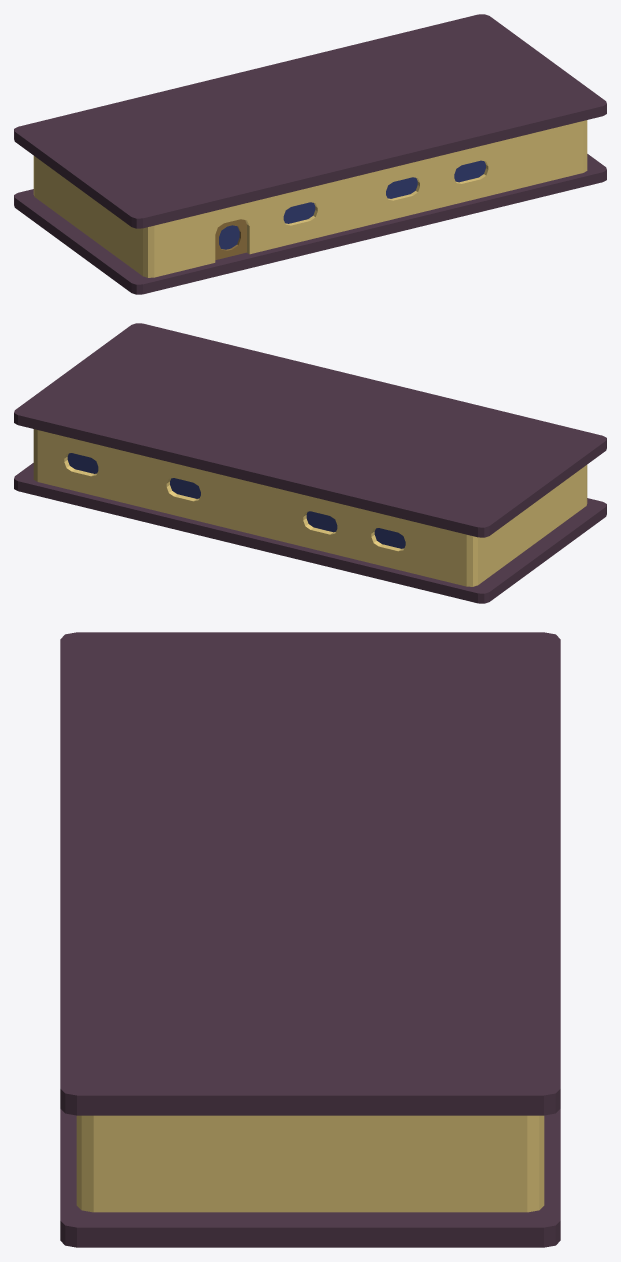
Rendered from RRRBuilding.fbx.
3 views of the same model, one above another, from view 1: azimuth 30°, elevation 25°; view 2: azimuth 150°, elevation 25°; view 3: azimuth 270°, elevation 25° (orthographic). The views are drawn at different scales.
Visible parts, largest first — view 1: RRRBuilding; view 2: RRRBuilding; view 3: RRRBuilding.
Part boxes in pixels (left/top/right/bottom): RRRBuilding: left=14, top=14, right=606, bottom=294; RRRBuilding: left=14, top=323, right=606, bottom=603; RRRBuilding: left=60, top=632, right=560, bottom=1247.
Bounding box in the file's own units: 9.38 × 1.44 × 4.28.
